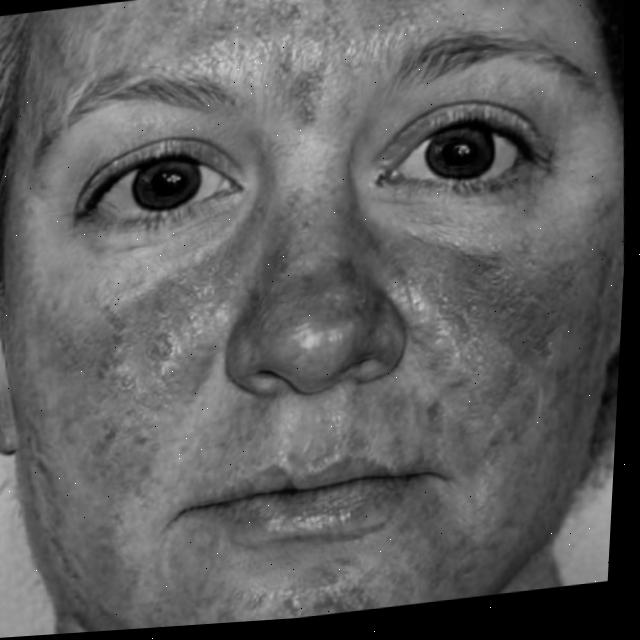Rosacea: (401, 219, 626, 589), (35, 262, 233, 535), (166, 0, 442, 149), (151, 552, 383, 628), (281, 213, 361, 320)
